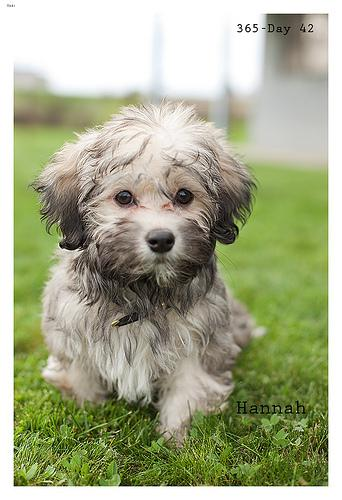dog-havanese: (38, 109, 247, 275)
